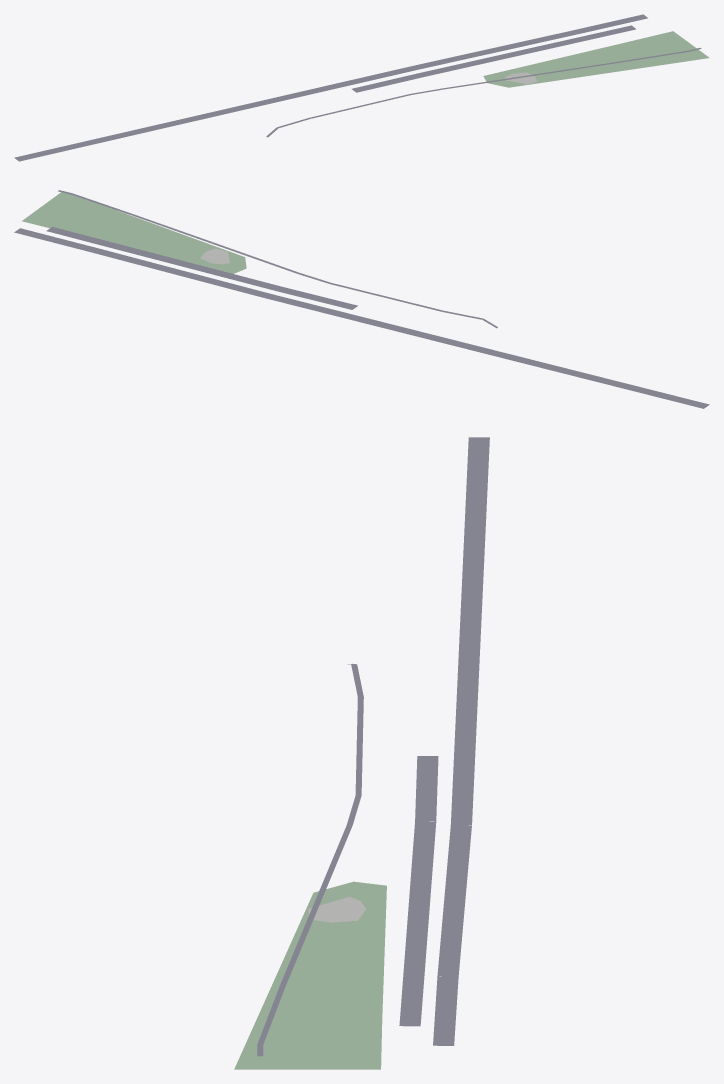
The model's file is 107_85_mid.glb.
The picture shows the model from 3 angles, top to bottom: view 1: azimuth 30°, elevation 25°; view 2: azimuth 150°, elevation 25°; view 3: azimuth 270°, elevation 25°; orthographic projection. The views are drawn at different scales.
Bounding box in the file's own units: 722 × 8.41 × 127.
